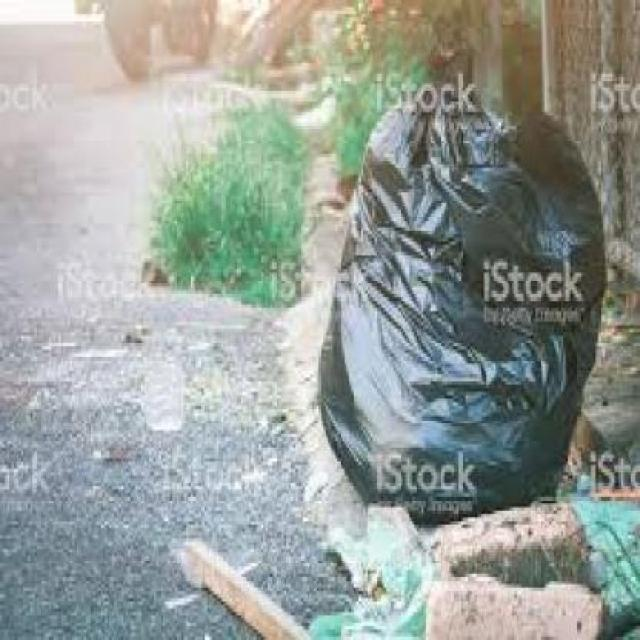garbage: (282, 56, 638, 637)
